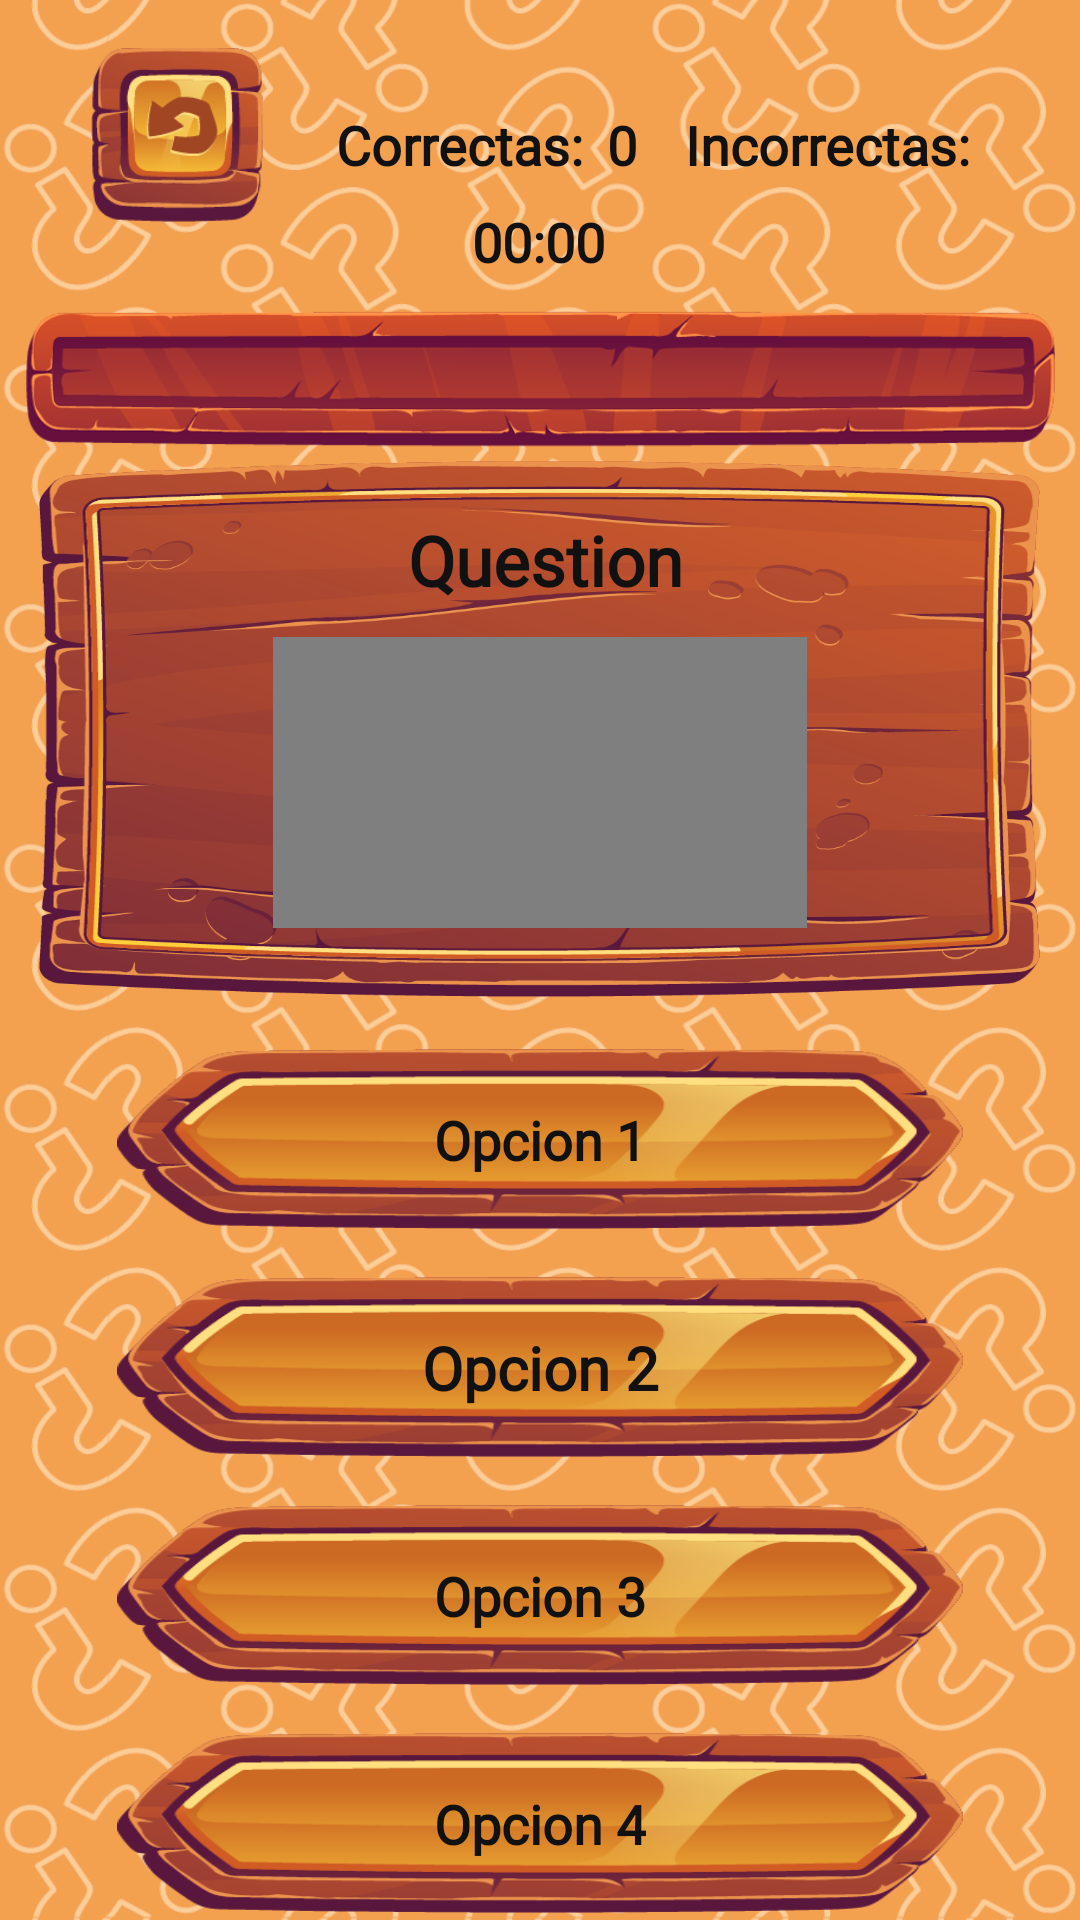

Where icons sit on this 1080x1920 app screen, as (x1, y1, x2, y2):
regreso: (90, 48, 264, 222)
